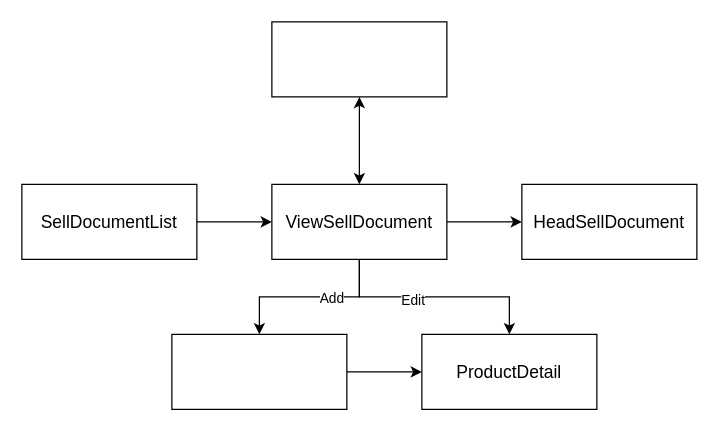
The diagram is 719 pixels wide and 431 high, and some of its shapes have lost their labels. Here are the shapes that lost their labels. From the top down, the centre of each, then its label:
At [359,59]: "CreateSellDocument".
At [259,371]: "ProductList".
